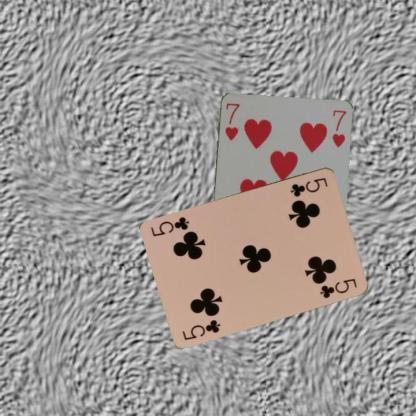5c: (180, 317, 222, 341), (288, 175, 329, 198)
7h: (222, 100, 241, 142)
